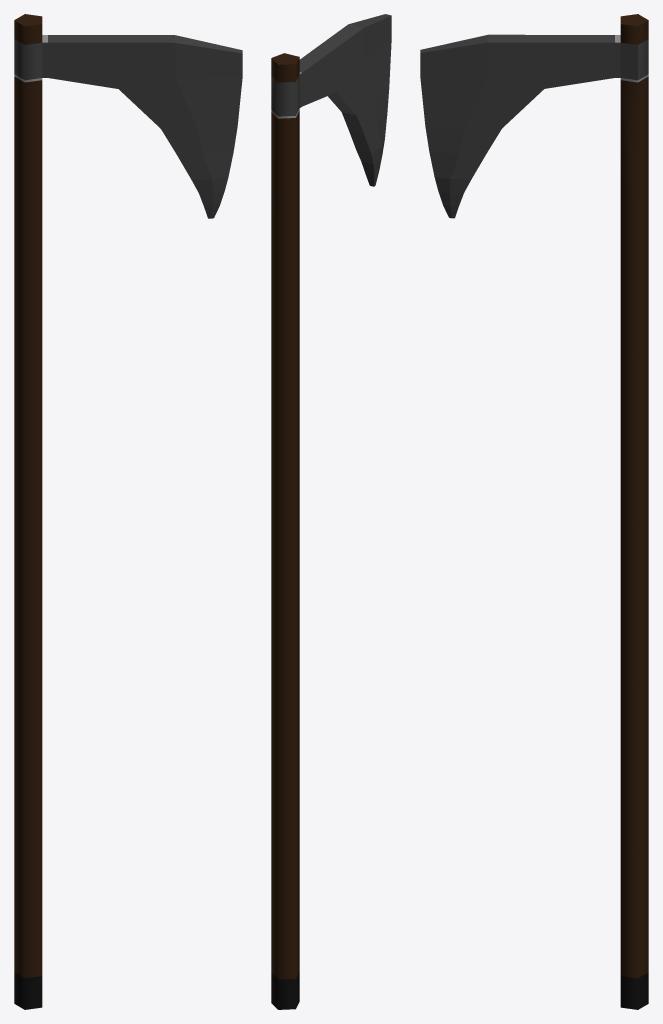
The model's file is machado.FBX.
3 renders of one model, left to right at view 1: azimuth 90°, elevation 25°; view 2: azimuth 150°, elevation 25°; view 3: azimuth 270°, elevation 25°, orthographic. The views are drawn at different scales.
Visible parts, largest first — view 1: Cylinder001; view 2: Cylinder001; view 3: Cylinder001.
Boxes of the visible parts, x1,y1,x2,y2 form: Cylinder001: (14,14,242,1009); Cylinder001: (271,14,391,1009); Cylinder001: (420,14,648,1009).
Size of the model in its own units: 13.03 by 476 by 100.
